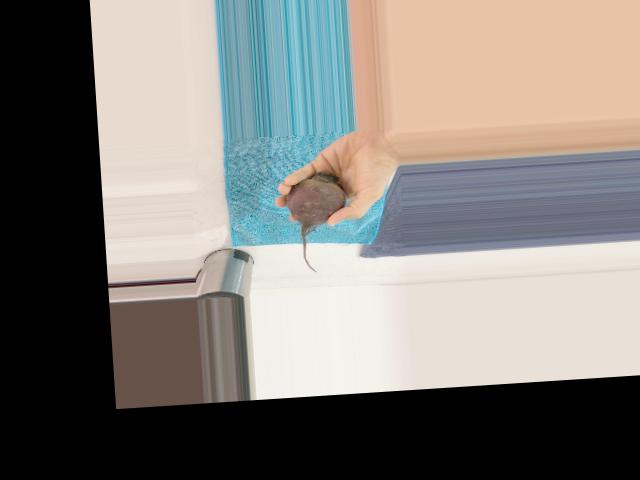beet: (283, 169, 350, 273)
